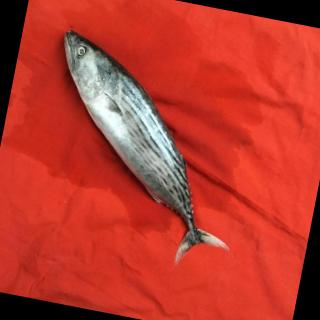Ikan: (17, 21, 272, 285)
